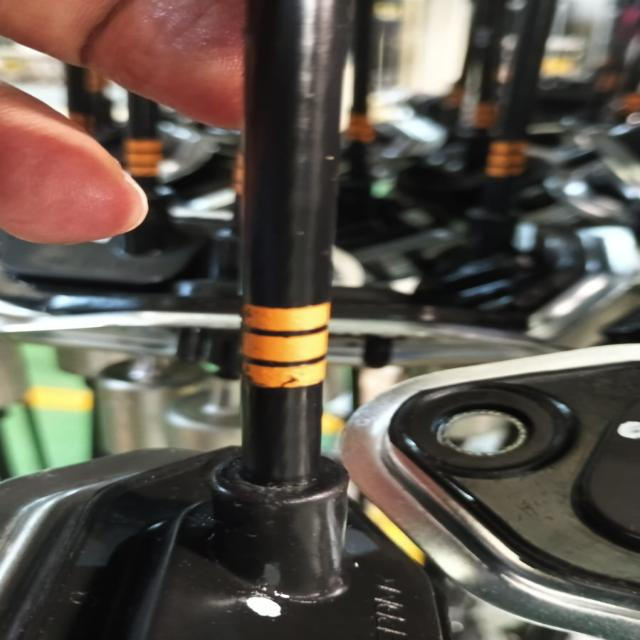orange: (237, 303, 329, 393)
